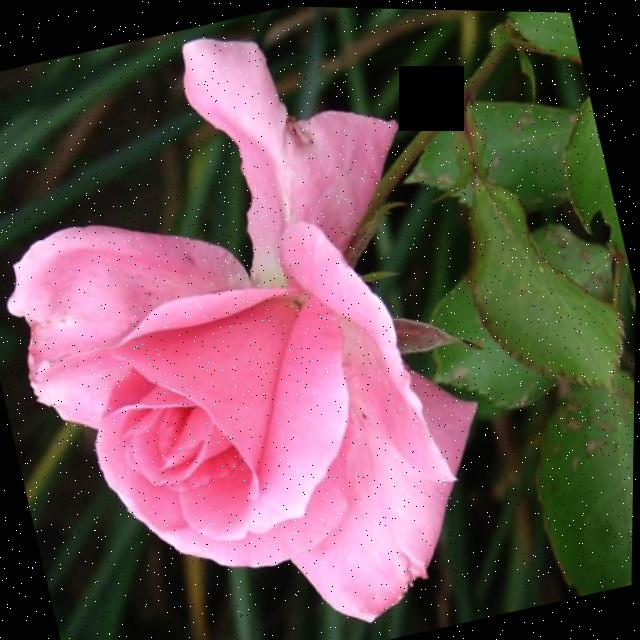rose: (0, 8, 583, 640)
